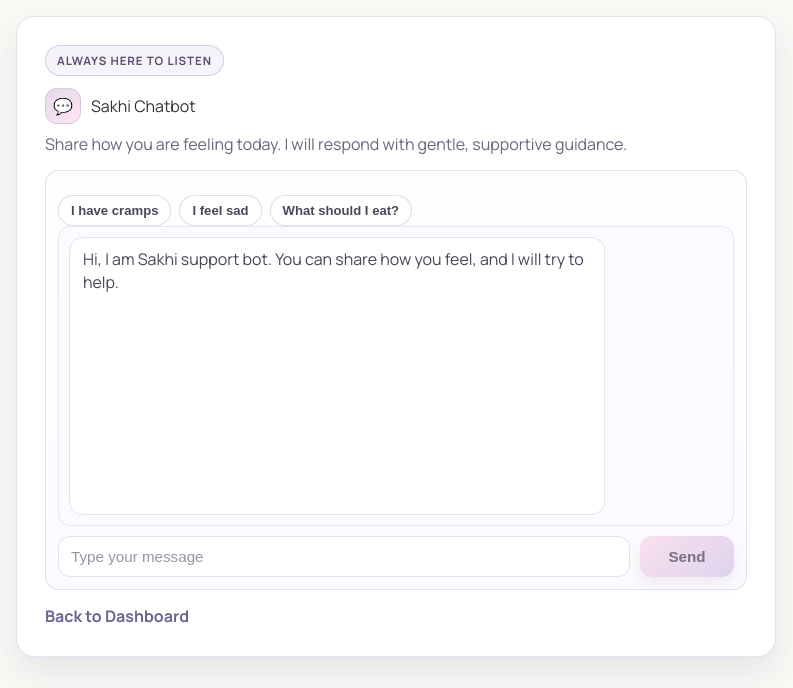
Scenario: Chatbot feature › sends message and renders bot reply
Type "I have cramps" into the field with placeholder "Type your message" at (344,557), box [58,536,630,577]
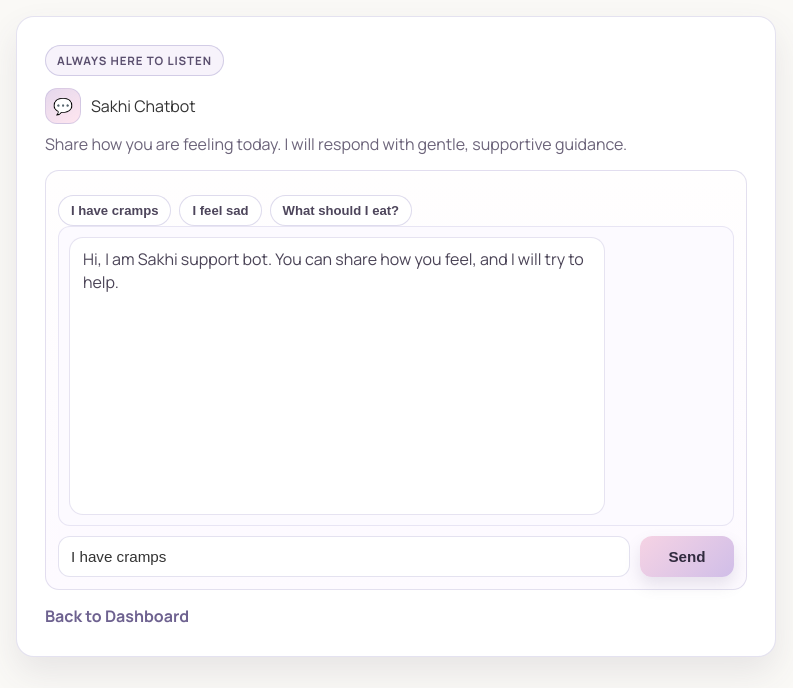
Click the button "Send" at (687,557), box [640,536,734,577]
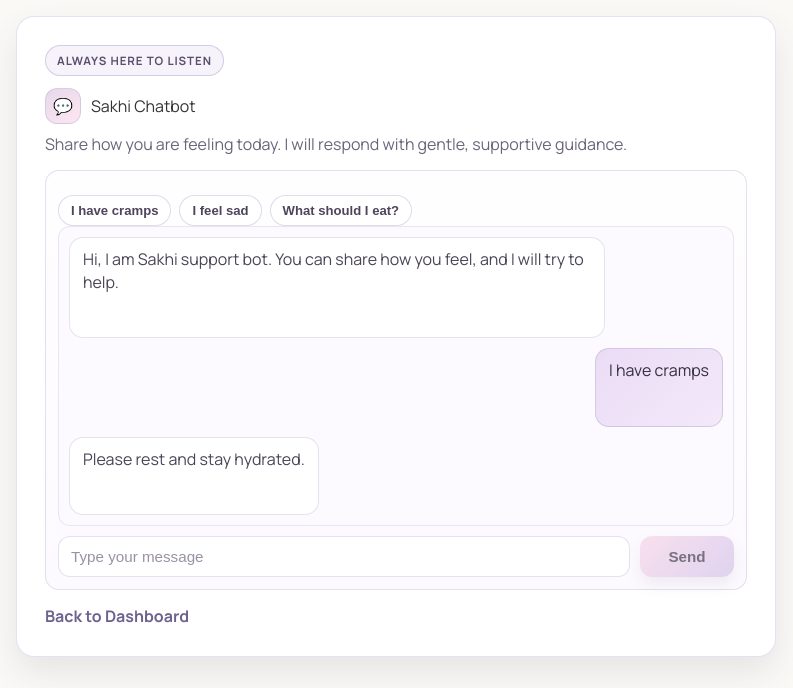
Expected: the text "Please rest and stay hydrated." is shown, [69,437,319,515]
